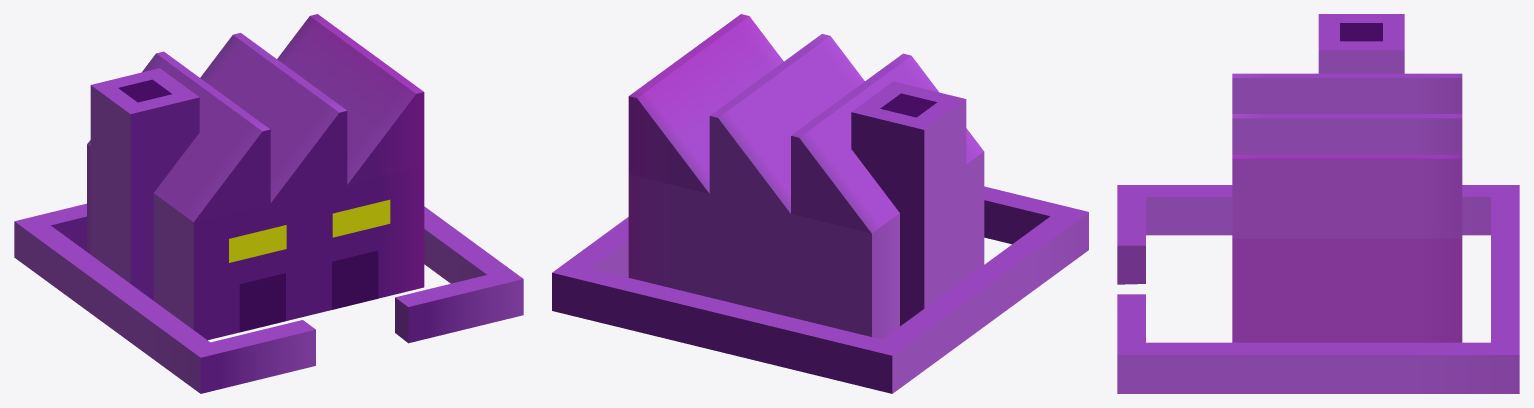
The model's file is Factory.PurpleLightning.glb.
3 renders of one model, left to right at view 1: azimuth 30°, elevation 25°; view 2: azimuth 150°, elevation 25°; view 3: azimuth 270°, elevation 25°, orthographic. The views are drawn at different scales.
Parts seen in each view (by area): view 1: Factory.PurpleLightning; view 2: Factory.PurpleLightning; view 3: Factory.PurpleLightning.
Boxes of the visible parts, <box> form: Factory.PurpleLightning: <box>14,14,523,393</box>; Factory.PurpleLightning: <box>552,14,1088,393</box>; Factory.PurpleLightning: <box>1117,14,1519,393</box>.
Size of the model in its own units: 2.8 by 1.71 by 2.8.
Materials: 2 (1 with a texture image).
